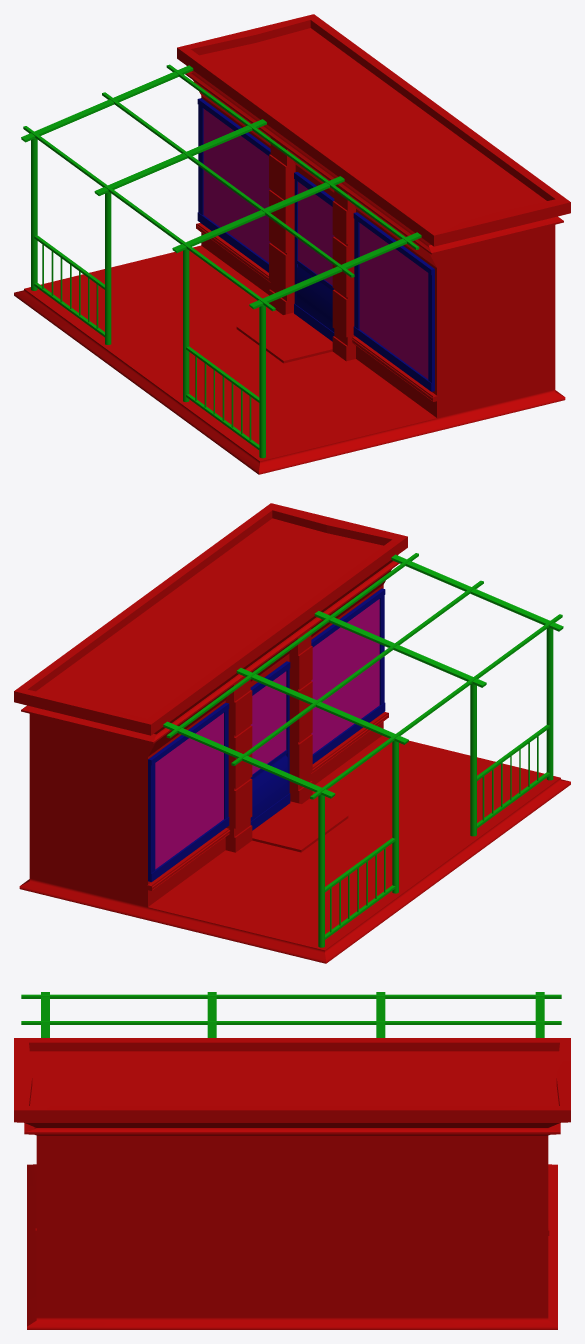
Rendered from Resturant.fbx.
3 views of the same model, one above another, from view 1: azimuth 30°, elevation 25°; view 2: azimuth 150°, elevation 25°; view 3: azimuth 270°, elevation 25° (orthographic). The views are drawn at different scales.
Parts seen in each view (by area): view 1: Resturant; view 2: Resturant; view 3: Resturant.
Part boxes in pixels (bbox=[...]): Resturant: bbox=[14, 14, 570, 474]; Resturant: bbox=[14, 503, 570, 963]; Resturant: bbox=[14, 992, 570, 1329].
Size of the model in its own units: 195 by 123 by 283.
